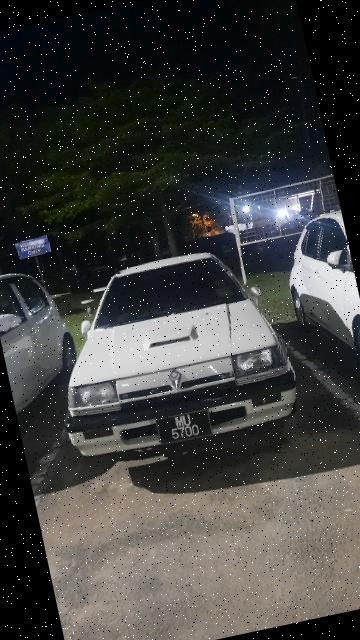License_Plate: (152, 405, 215, 450)
car: (35, 237, 310, 479), (272, 206, 360, 404), (1, 251, 93, 434)
